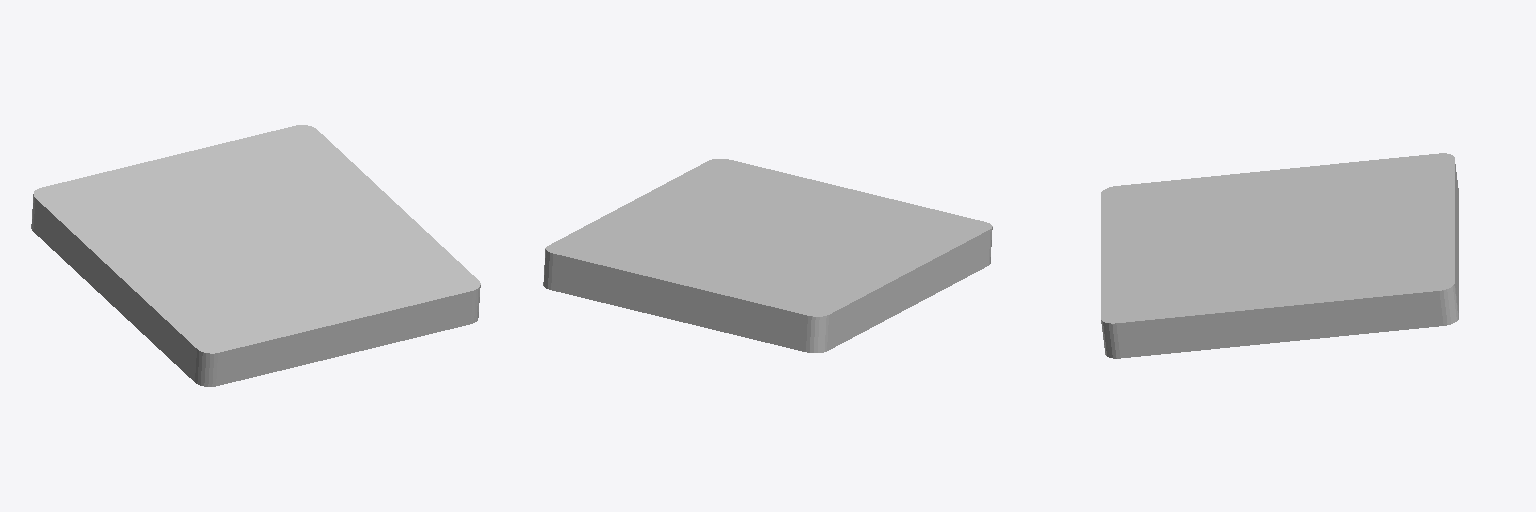
File: original-42.obj
The picture shows the model from 3 angles: view 1: azimuth 30°, elevation 25°; view 2: azimuth 150°, elevation 25°; view 3: azimuth 270°, elevation 25°; orthographic projection.
Visible parts, largest first — view 1: mesh41/mesh41-geometry#mesh41-geometry; view 2: mesh41/mesh41-geometry#mesh41-geometry; view 3: mesh41/mesh41-geometry#mesh41-geometry.
Boxes of the visible parts, <box> form: mesh41/mesh41-geometry#mesh41-geometry: <box>31,125,480,386</box>; mesh41/mesh41-geometry#mesh41-geometry: <box>543,159,992,352</box>; mesh41/mesh41-geometry#mesh41-geometry: <box>1101,153,1458,358</box>.
Size of the model in its own units: 0.1061 by 0.0255 by 0.1169.